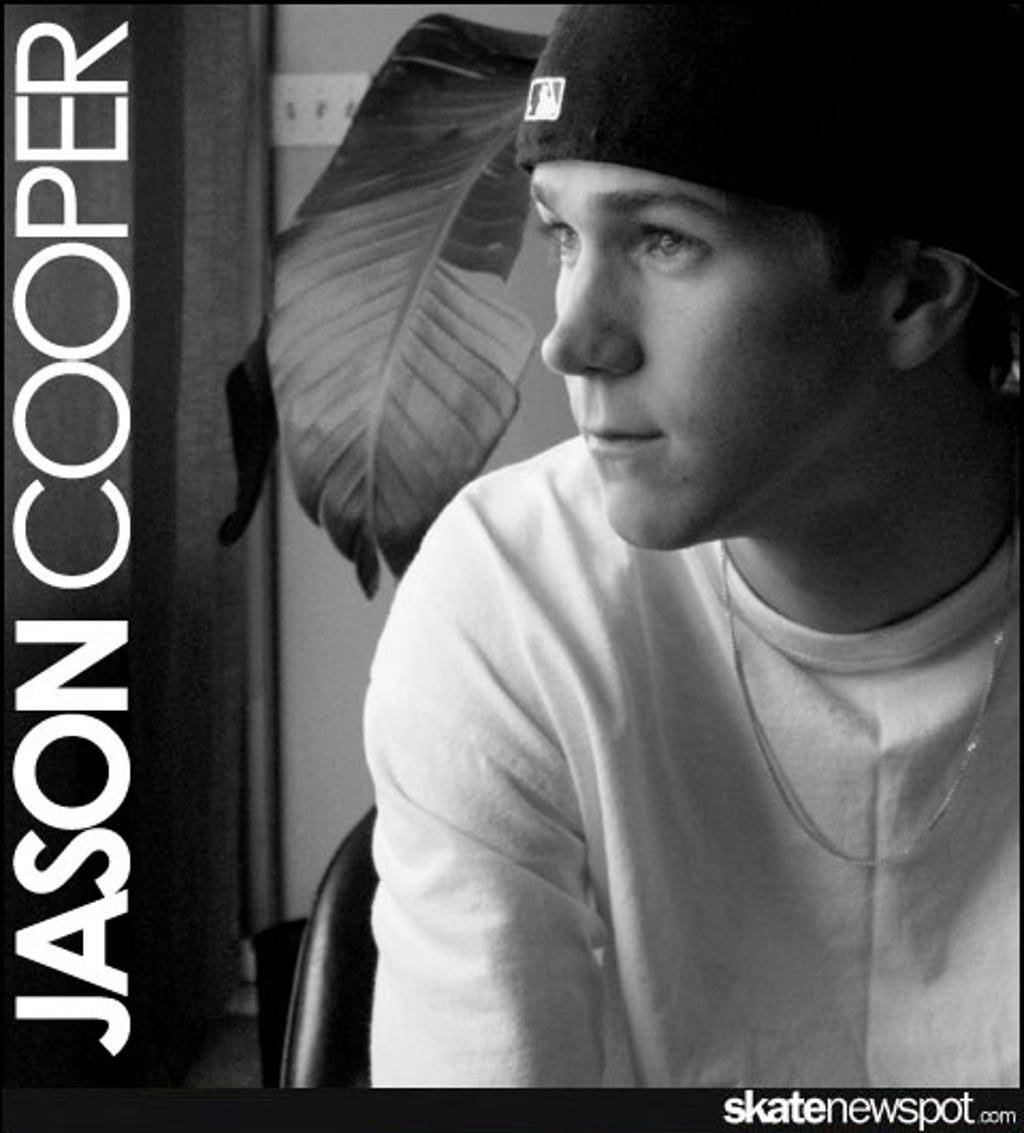face: (531, 111, 889, 542)
